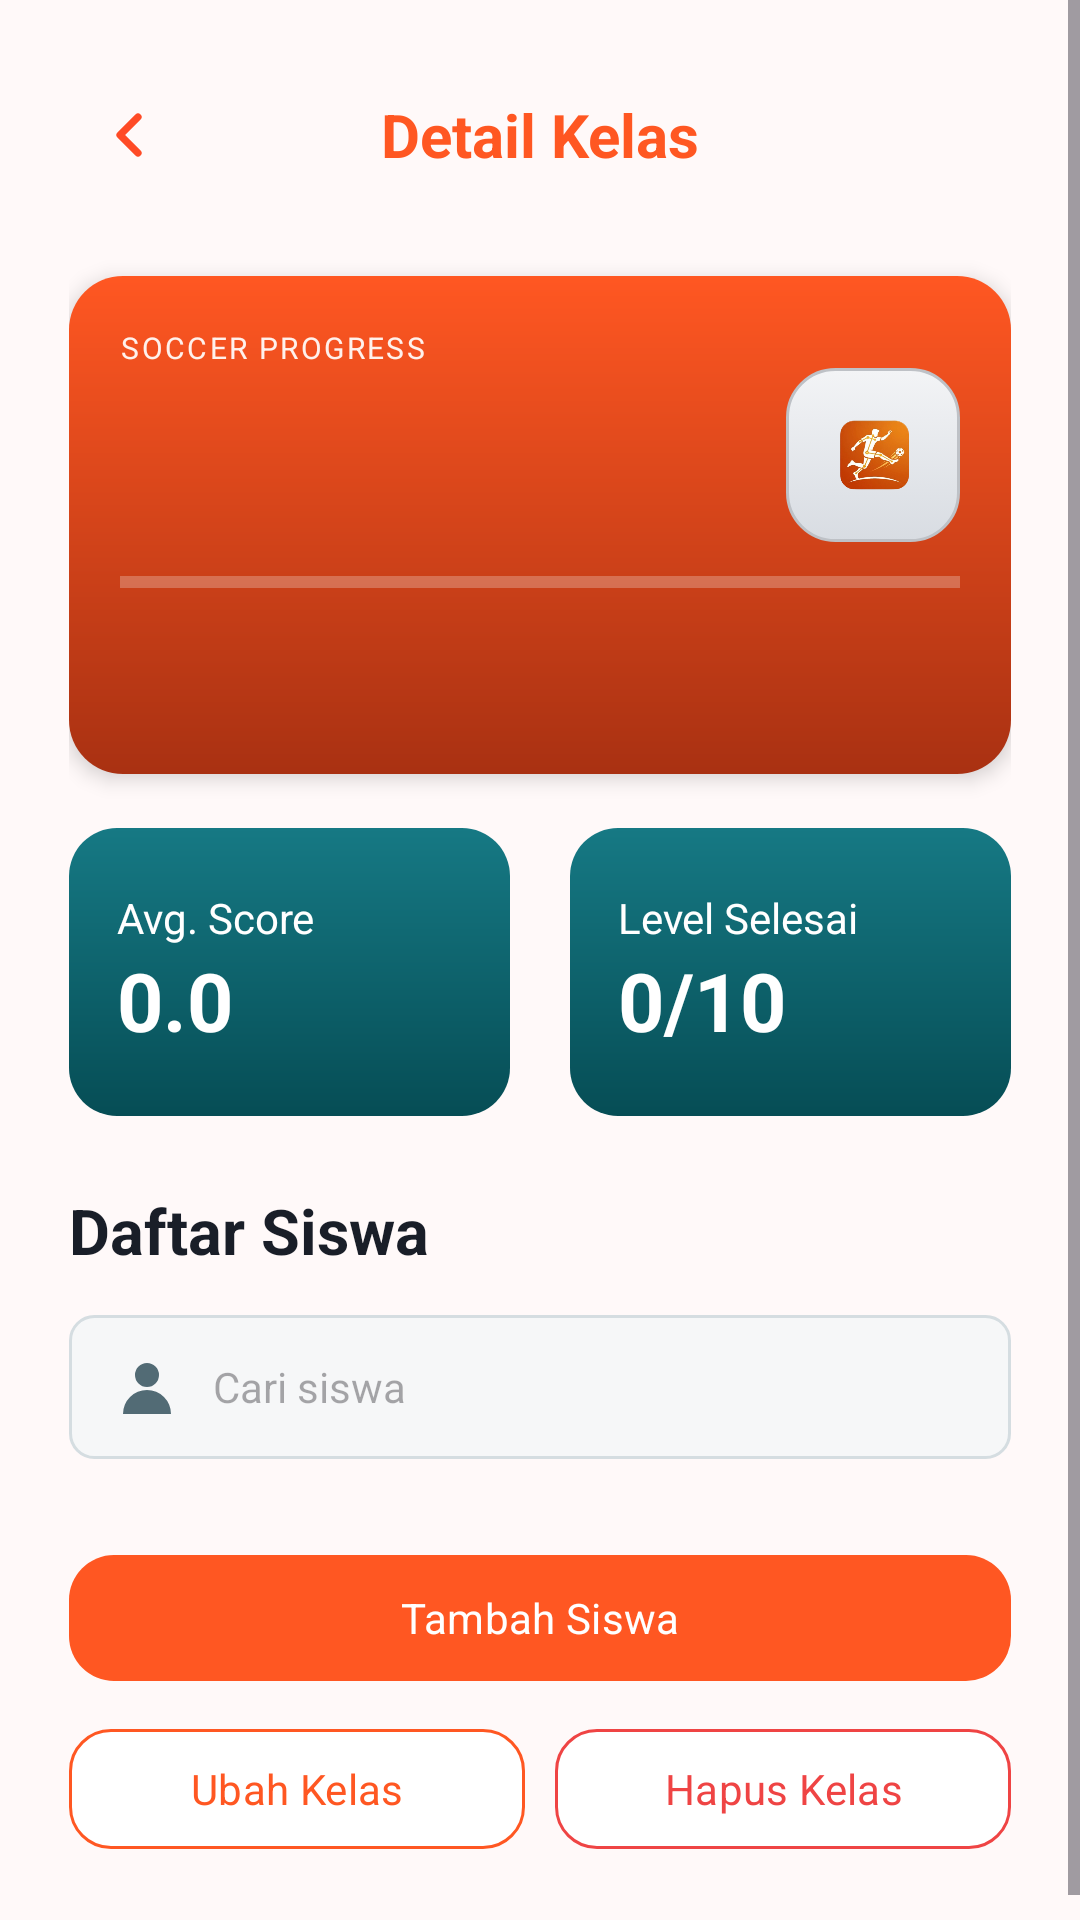

Icons on this 1080px x 1920px Android screen, each with the point to tap as point (x, y):
Kembali: point (129, 135)
Sepak bola: point (873, 455)
